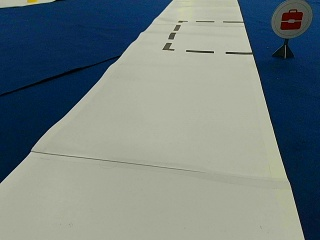company: (271, 1, 312, 37)
